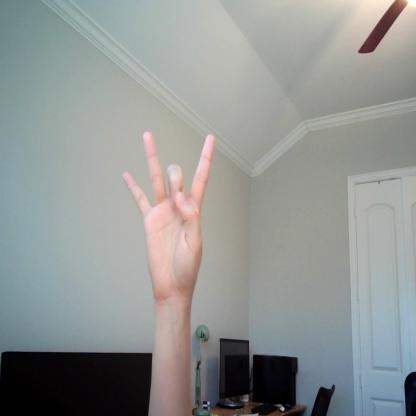eight: (118, 128, 220, 301)
